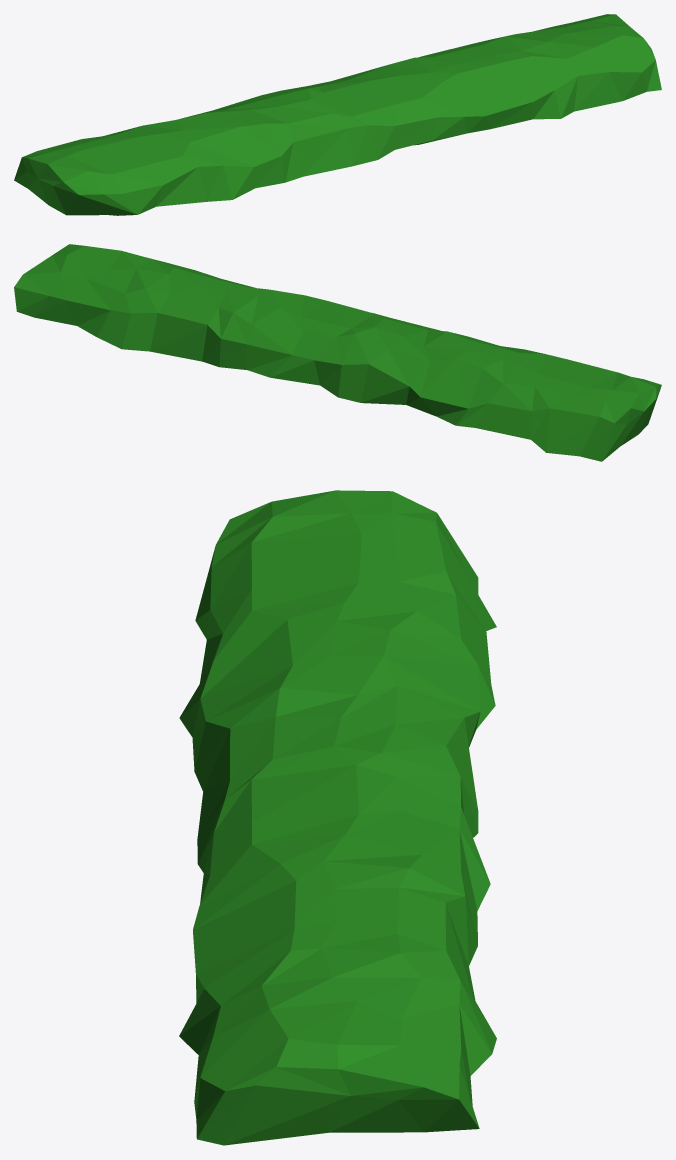
Rendered from o_grass_large.FBX.
3 views of the same model, one above another, from view 1: azimuth 30°, elevation 25°; view 2: azimuth 150°, elevation 25°; view 3: azimuth 270°, elevation 25° (orthographic). The views are drawn at different scales.
Visible parts, largest first — view 1: O_Grass_Large; view 2: O_Grass_Large; view 3: O_Grass_Large.
Boxes of the visible parts, bbox=[...] form: O_Grass_Large: bbox=[14, 14, 661, 215]; O_Grass_Large: bbox=[14, 244, 661, 461]; O_Grass_Large: bbox=[179, 490, 496, 1145].
Bounding box in the file's own units: 786 × 54.97 × 181.
